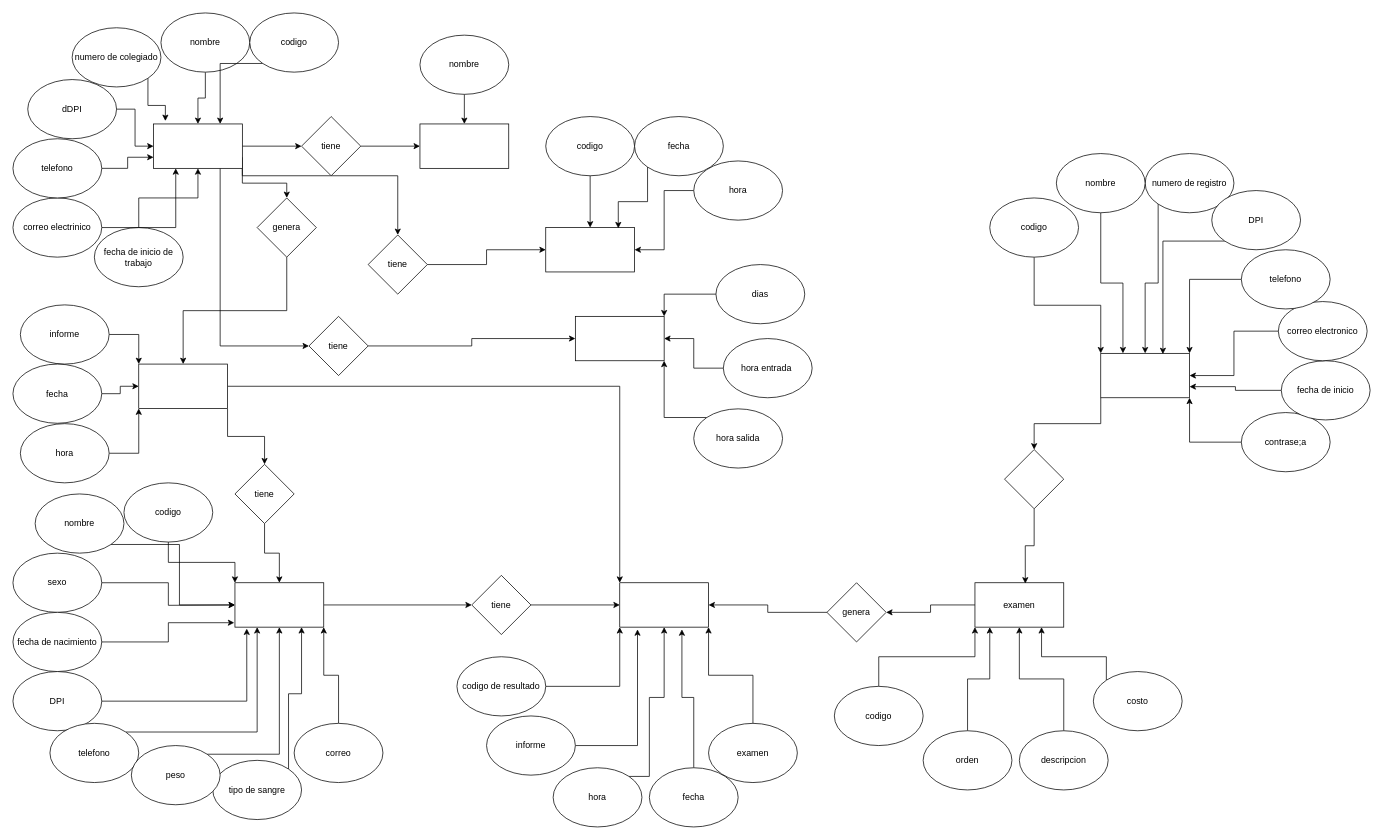
This 1383x840 diagram has some shape labels left out. Here are the shapes that lost their labels. From the top down, the centre of each, then its label:
point 197,145: Medico
point 464,145: especializacion
point 590,249: consulta
point 619,338: horario
point 183,385: informes
point 1145,375: laboratorio
point 1034,479: crea
point 279,604: paciente
point 664,604: Resultados de examen
